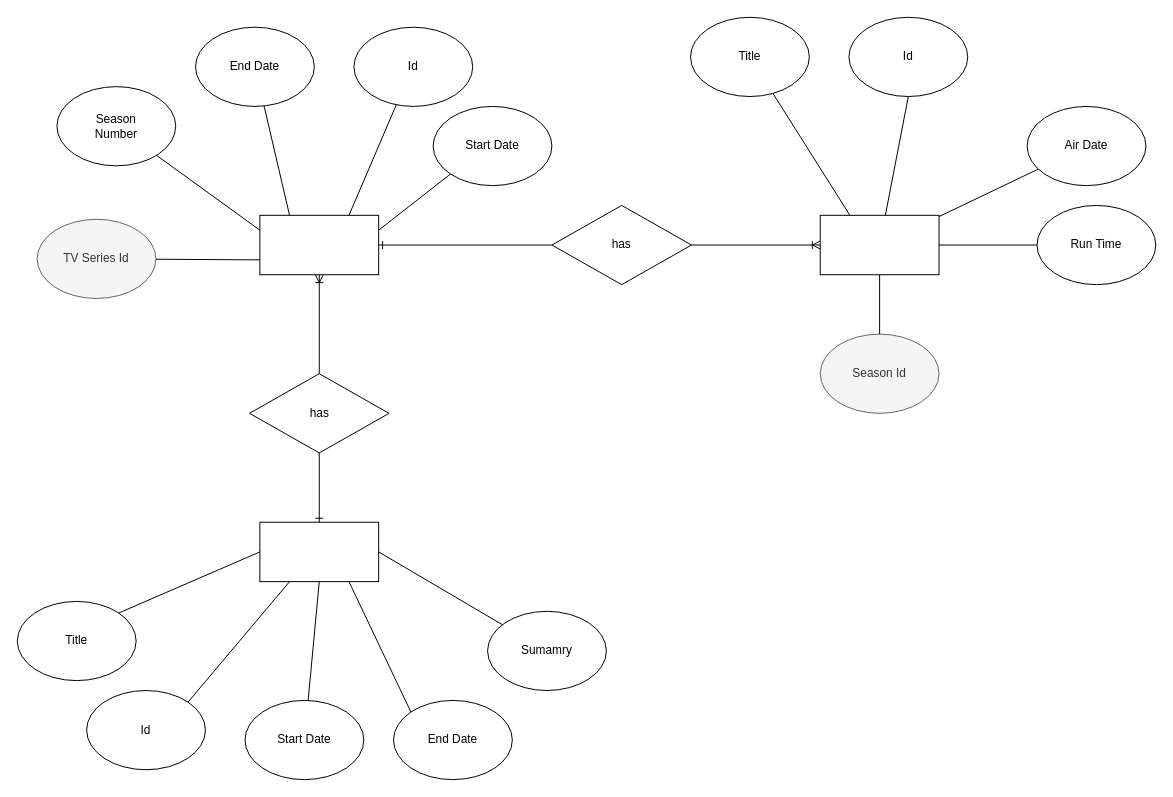
Image size: 1173x797. Some labels were removed from this diagram. Each missing label, with the centre of its shape:
Episode: the point at 879,244
Season: the point at 319,244
TV Series: the point at 319,551
